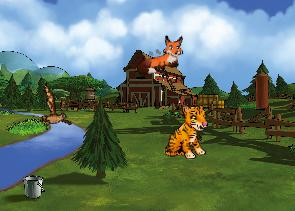eagle: (23, 82, 82, 139)
fox: (131, 32, 189, 77)
tiger: (162, 104, 210, 161)
